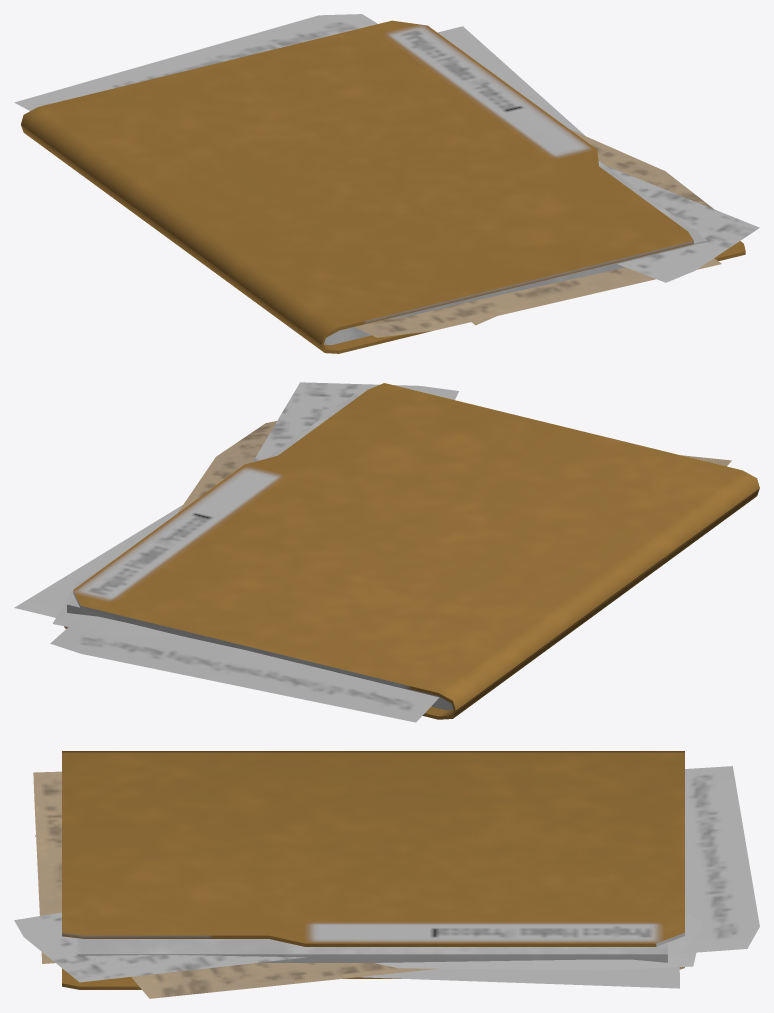
Rendered from folder.glb.
3 renders of one model, top to bottom at view 1: azimuth 30°, elevation 25°; view 2: azimuth 150°, elevation 25°; view 3: azimuth 270°, elevation 25°, orthographic. The views are drawn at different scales.
Visible parts, largest first — view 1: Folder; view 2: Folder; view 3: Folder.
Boxes of the visible parts, box(x1,y1,x2,y2) form: Folder: box(14, 14, 759, 353); Folder: box(14, 382, 759, 722); Folder: box(14, 751, 759, 998).
Size of the model in its own units: 0.261 by 0.0162 by 0.3646.
1 material, 1 textured.
